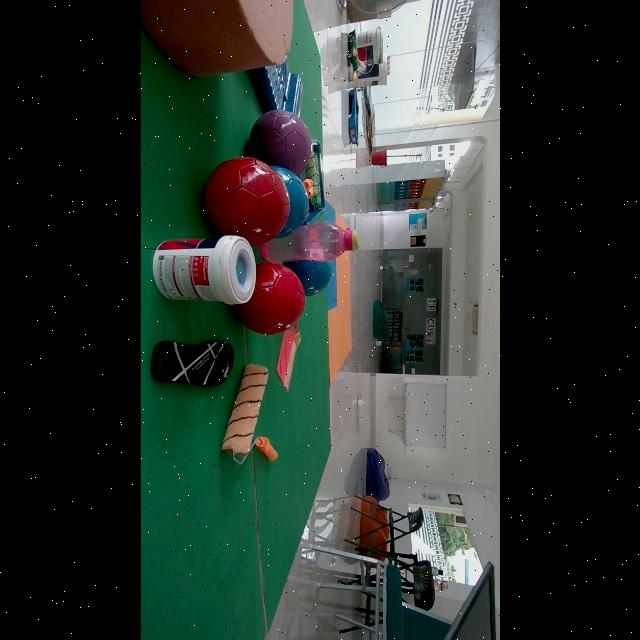B: (272, 165, 308, 238), (283, 260, 333, 297)
P: (248, 110, 312, 175)
R: (204, 156, 290, 245), (235, 262, 306, 335)
